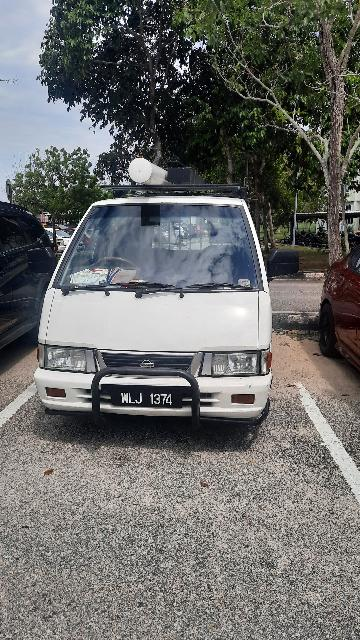License_Plate: (111, 384, 184, 409)
van: (30, 153, 276, 440)
